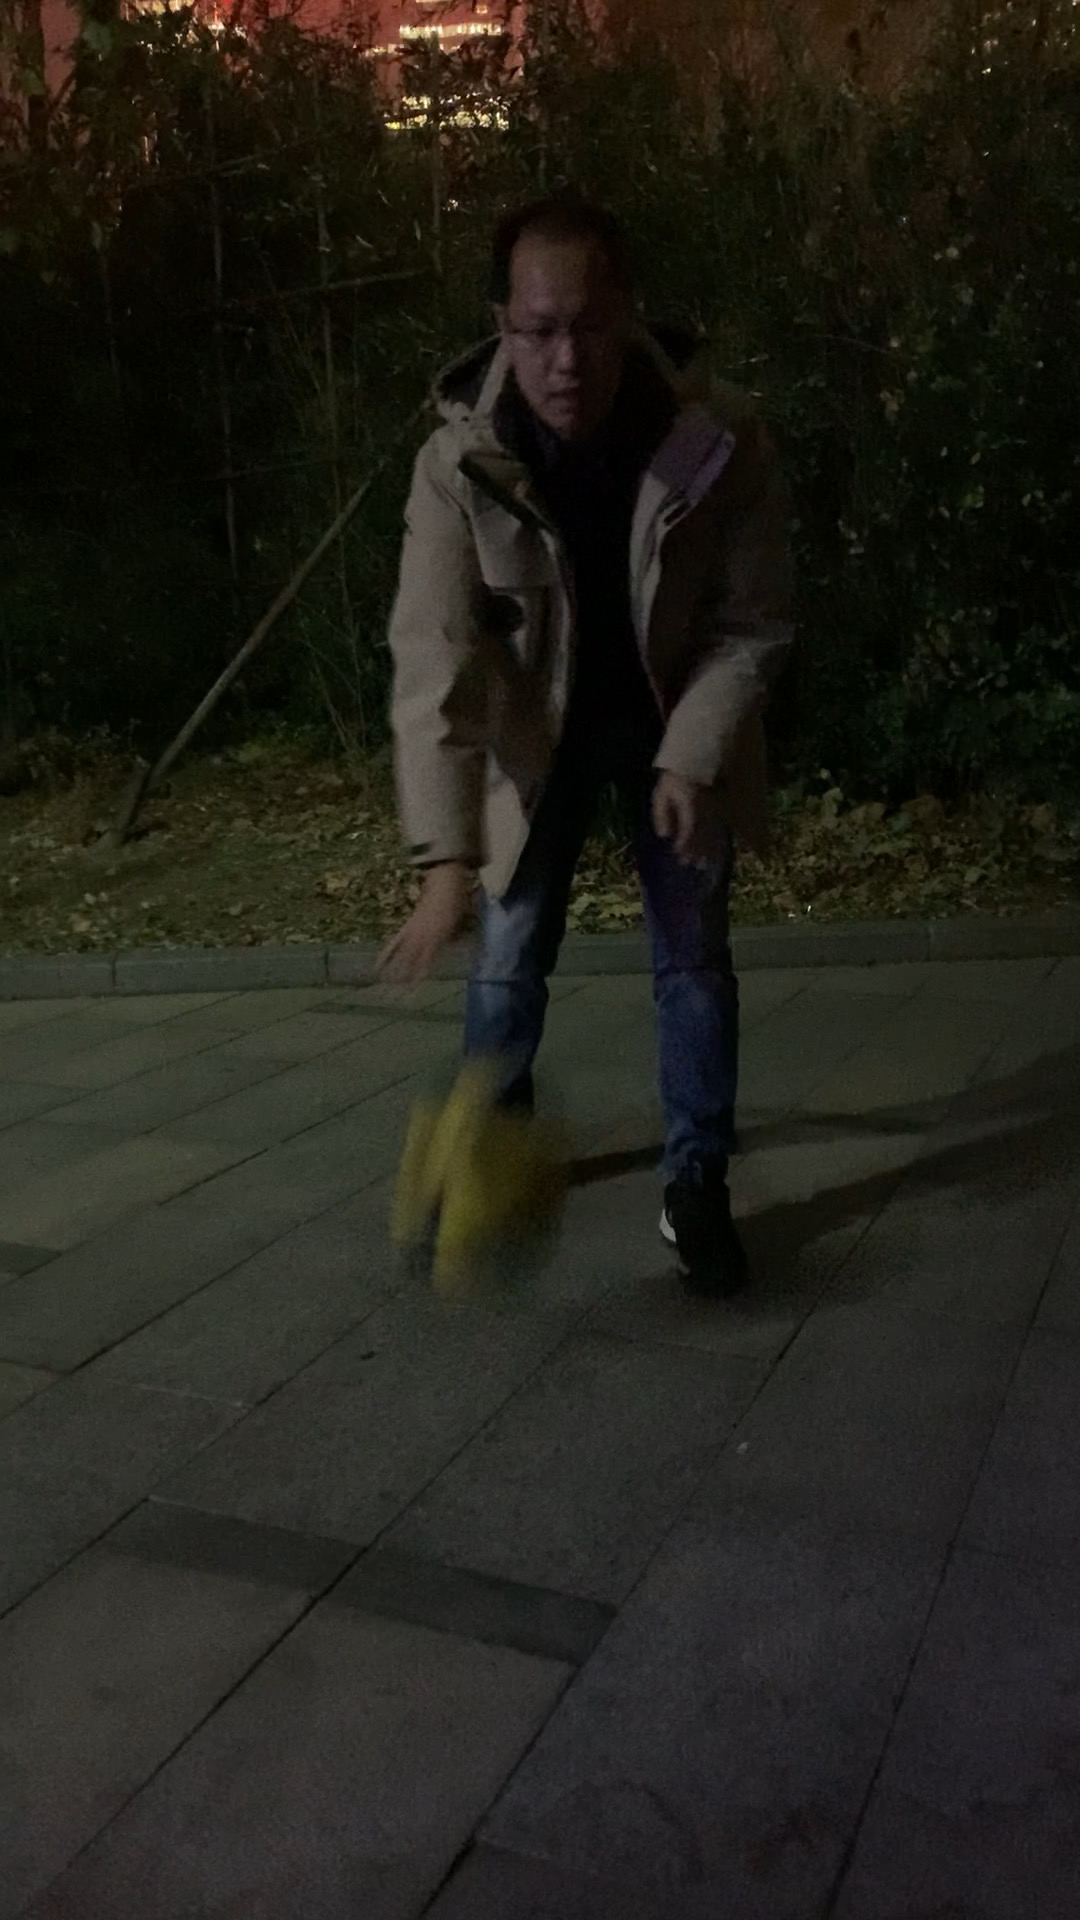ball: (389, 1080, 585, 1292)
